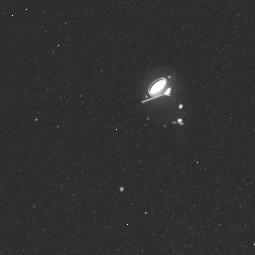proba_3_ocs: (139, 61, 201, 132)
